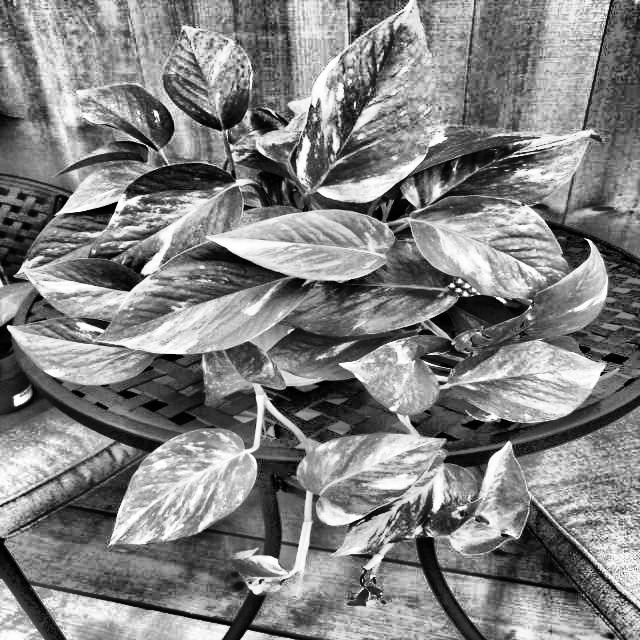plants: (36, 12, 614, 610), (95, 353, 538, 612)
